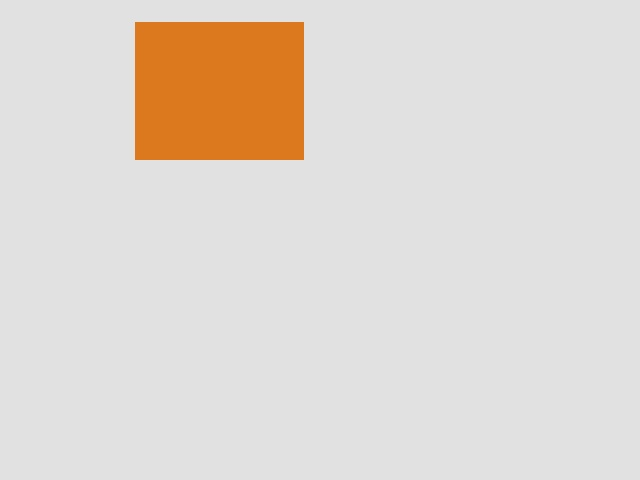square: (135, 22, 303, 159)
